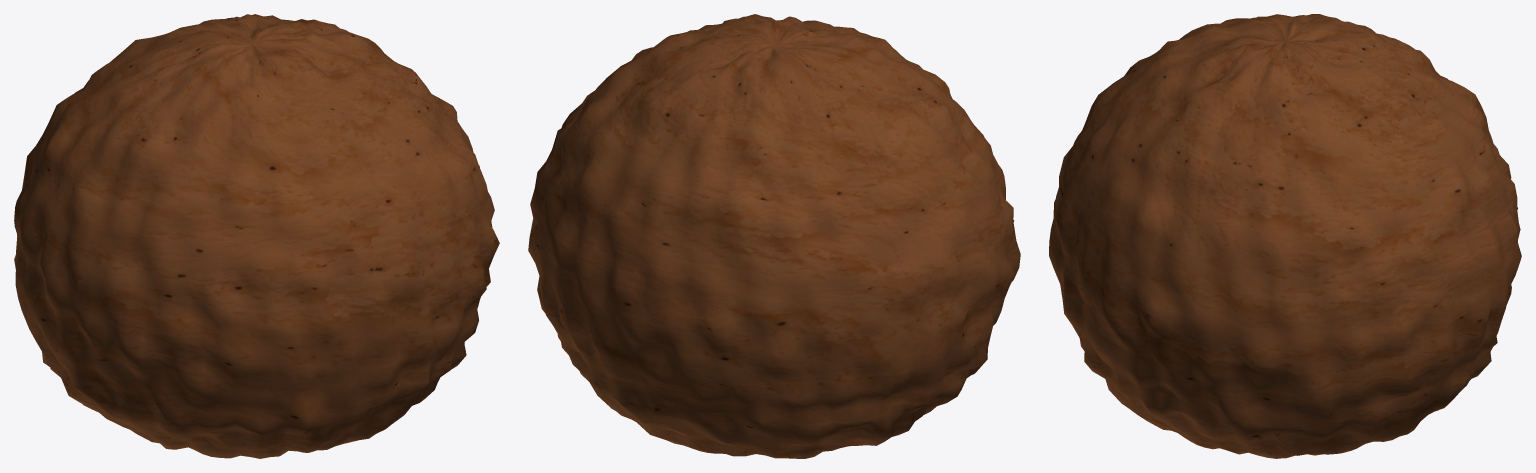
The model's file is sweet-icecream-chocolate.glb.
The picture shows the model from 3 angles, left to right: view 1: azimuth 30°, elevation 25°; view 2: azimuth 150°, elevation 25°; view 3: azimuth 270°, elevation 25°; orthographic projection.
Visible parts, largest first — view 1: Hand scooped chocolate; view 2: Hand scooped chocolate; view 3: Hand scooped chocolate.
Boxes of the visible parts, x1=… form: Hand scooped chocolate: x1=14, y1=14, x2=499, y2=458; Hand scooped chocolate: x1=528, y1=14, x2=1020, y2=458; Hand scooped chocolate: x1=1049, y1=14, x2=1521, y2=458.
Bounding box in the file's own units: 1.06 × 0.8515 × 1.02.
1 material, 1 textured.
